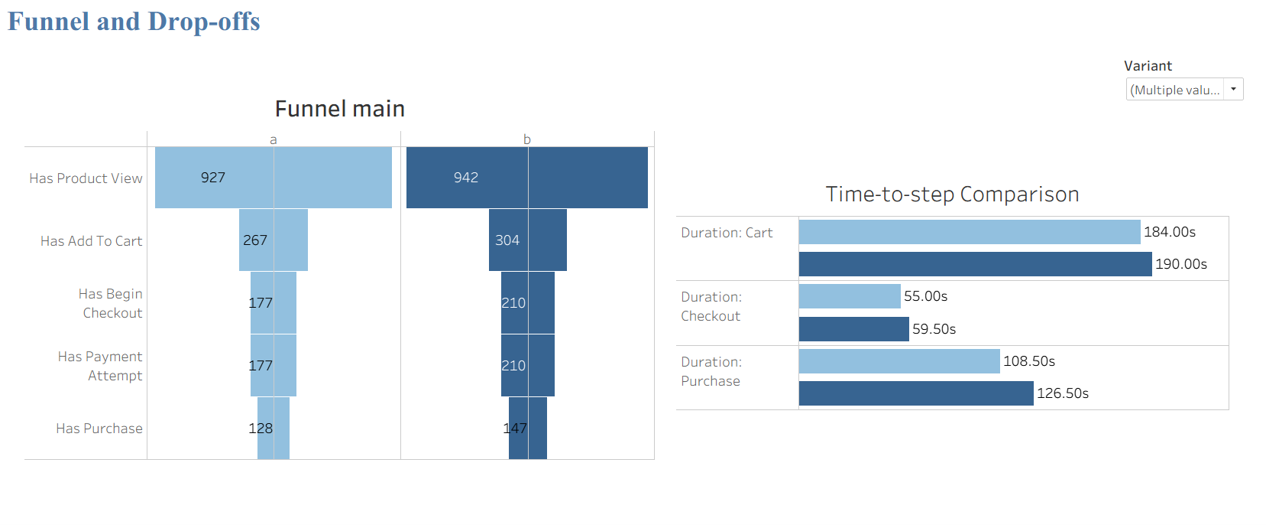

The dashboard page shown, as its layout file describes it:
{"tool":"tableau","page":{"name":"Funnel and Drop-offs","canvas":[1000,1000],"units":"permille","ordinal":2},"visuals":[{"type":"title","box":[4.8,10.7,990.4,64.3]},{"type":"filter","title":"Funnel main","param":"[federated.09lg01h0582vvc1dut7d40xcocbz].[none:variant:nk]","box":[888.2,103.2,96.2,187.7]},{"type":"worksheet","title":"Funnel main","mark":"Bar","rows":["Pivot Field Names"],"cols":["variant","Calculation_2366923126225842196","Pivot Field Values"],"box":[23.4,160.9,496.4,651.5]},{"type":"worksheet","title":"Time-to-step Comparison","mark":"Automatic","rows":["variant"],"box":[536.1,312.3,435.1,412.9]}]}

Visuals, with their boxes on the dashboard's canvas, which has no fixed pixel size, in thousandths of its width and height (x1, y1, x2, y2). These are canvas units, not pixel positions in the 1266x525 screenshot, which may show the page scaled, cropped or inside an application window:
title: (5, 11, 995, 75)
"Funnel main" filter: (888, 103, 984, 291)
"Funnel main" worksheet (Bar marks): (23, 161, 520, 812)
"Time-to-step Comparison" worksheet: (536, 312, 971, 725)
